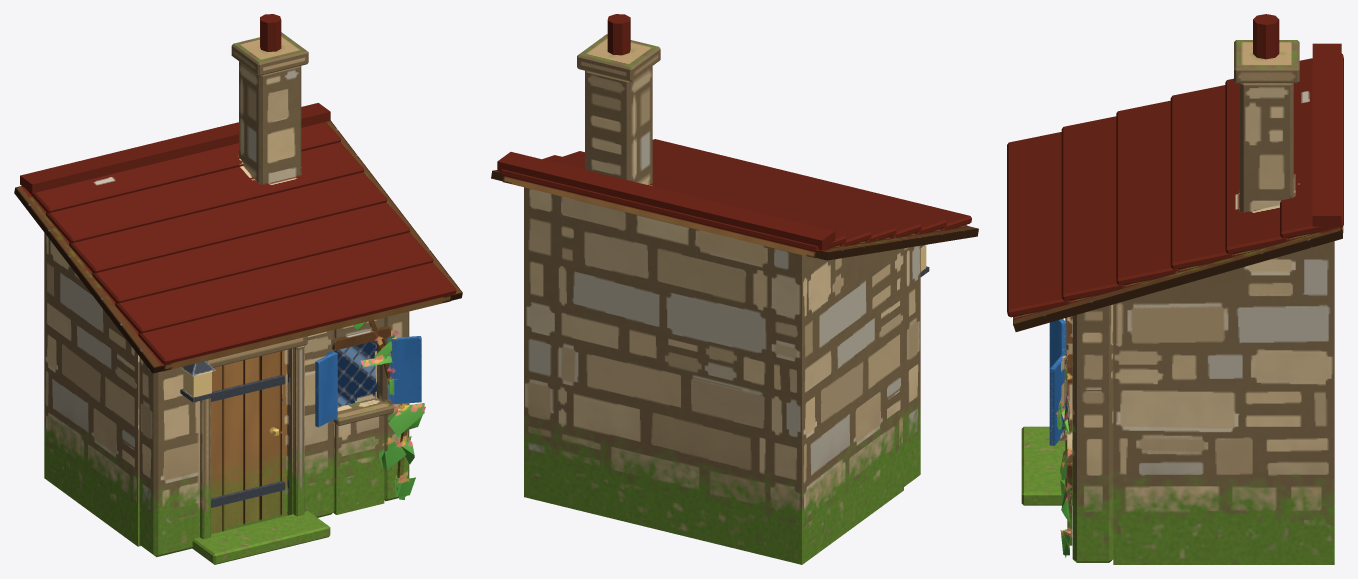
The model's file is Kit_Props_Shed.fbx.
3 renders of one model, left to right at view 1: azimuth 30°, elevation 25°; view 2: azimuth 150°, elevation 25°; view 3: azimuth 270°, elevation 25°, orthographic. The views are drawn at different scales.
Parts seen in each view (by area): view 1: Kit_Props_Shed_LOD0; view 2: Kit_Props_Shed_LOD0; view 3: Kit_Props_Shed_LOD0.
Part boxes in pixels (x1,y1,x2,y2): Kit_Props_Shed_LOD0: [14, 14, 462, 564]; Kit_Props_Shed_LOD0: [491, 14, 978, 564]; Kit_Props_Shed_LOD0: [1007, 14, 1343, 564].
Size of what is drawn, in the model's own units: 2.9 by 3.88 by 2.31.
1 material, 1 textured.
